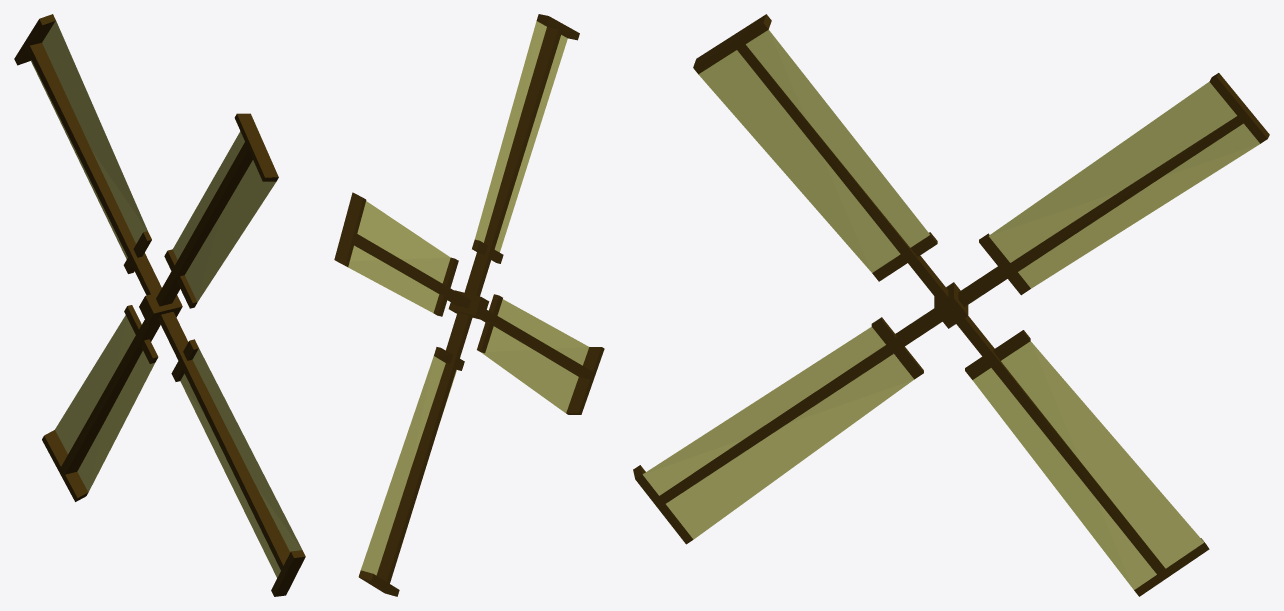
The model's file is sails0008.obj.
3 renders of one model, left to right at view 1: azimuth 30°, elevation 25°; view 2: azimuth 150°, elevation 25°; view 3: azimuth 270°, elevation 25°, orthographic. The views are drawn at different scales.
Visible parts, largest first — view 1: Sails_Mesh; view 2: Sails_Mesh; view 3: Sails_Mesh.
Boxes of the visible parts, <box> form: Sails_Mesh: <box>14,14,305,596</box>; Sails_Mesh: <box>334,14,604,596</box>; Sails_Mesh: <box>633,14,1269,596</box>.
Size of the model in its own units: 0.5135 by 8.6 by 8.6.
